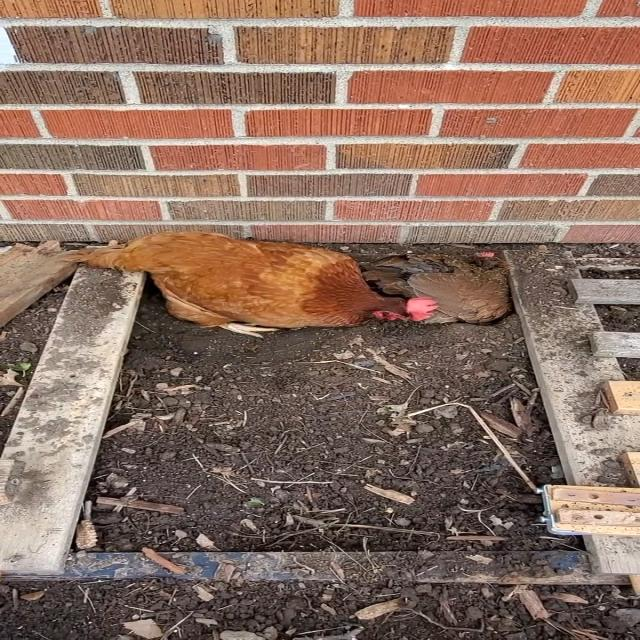stand bath: (46, 234, 438, 338), (372, 244, 510, 334)
